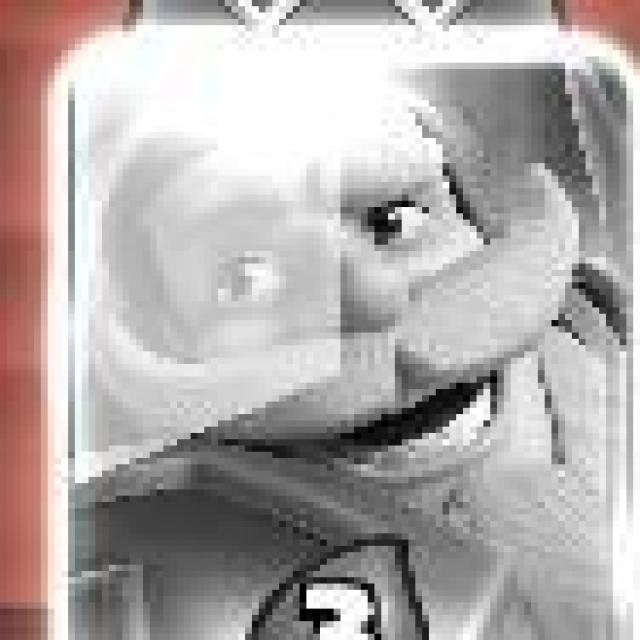Evolved_Knight: (55, 28, 633, 640)
